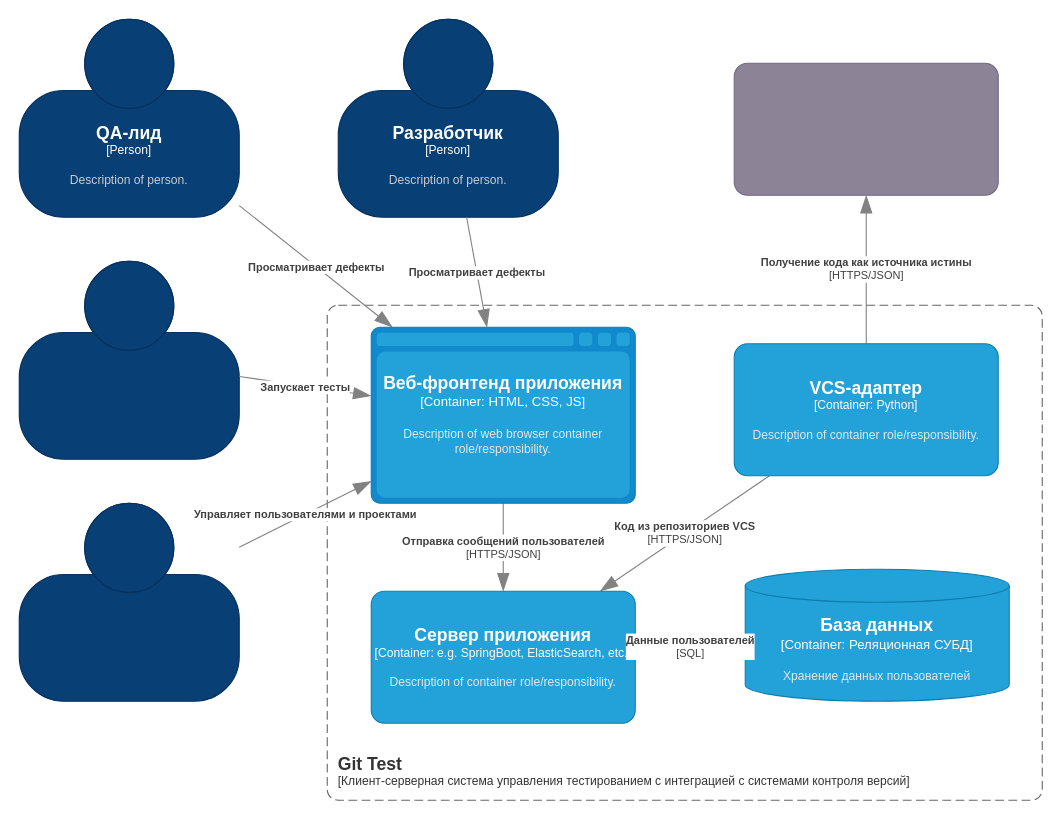
Image size: 1062x820. Some labels were removed from this diagram. The shapes that lost their labels are listed below. From the top down, each one's centre as x and y in pixels, then its label:
At [865,128]: "GitLab [Система контроля версий] Description of external software system.".
At [128,359]: "Тестировщик [Person] Description of person.".
At [128,601]: "Администратор системы [Person] Description of person.".
